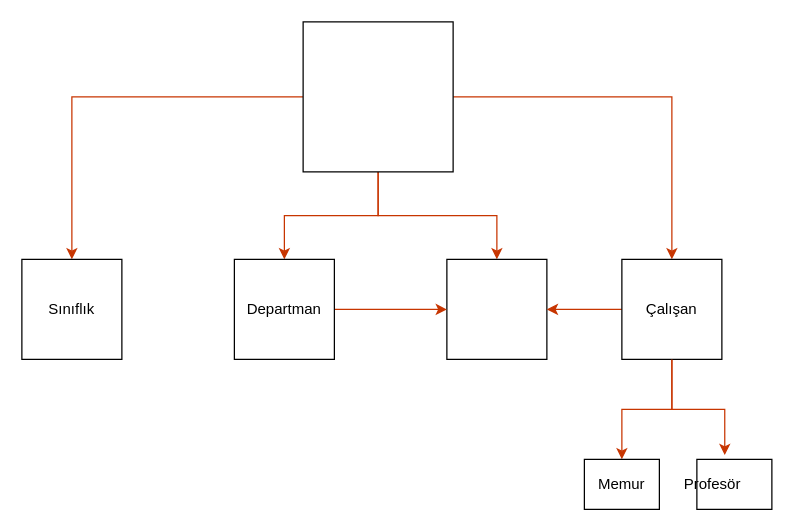
The diagram is 806 pixels wide and 531 high, and some of its shapes have lost their labels. Here are the shapes that lost their labels. From the top down, the box of each, then its label:
(302, 21, 453, 172): Üniversite
(446, 258, 547, 359): Ofis
